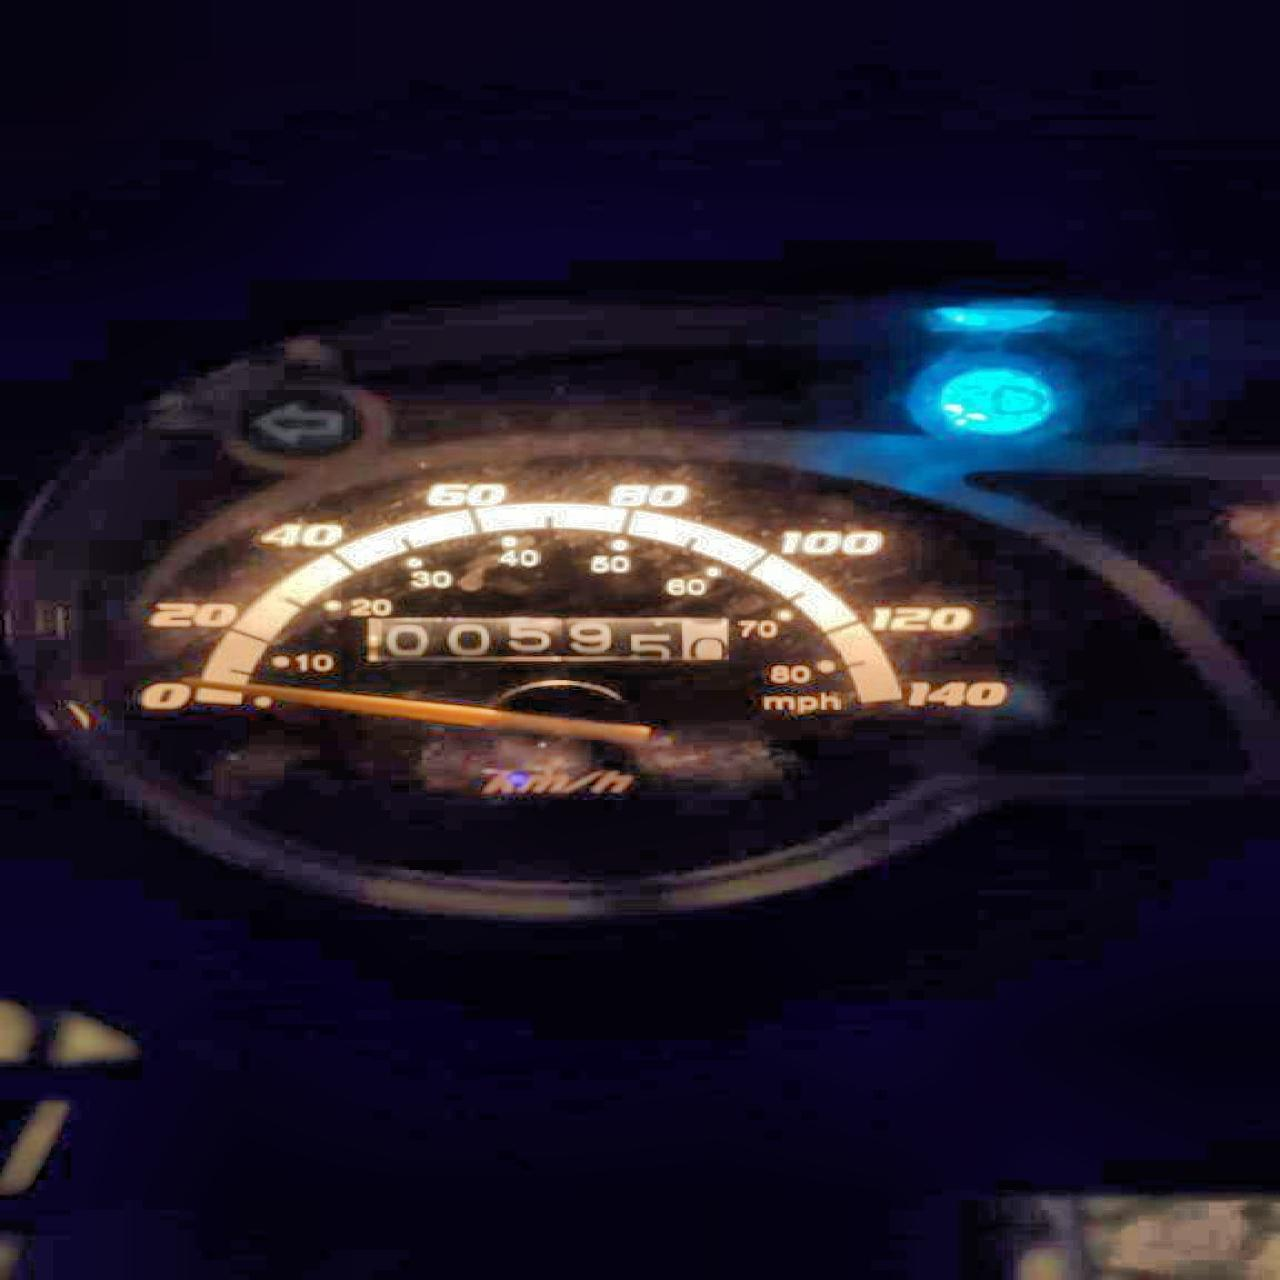0: (442, 622, 489, 655), (382, 622, 427, 656), (687, 636, 724, 661)
5: (504, 621, 549, 651), (627, 633, 672, 662)
9: (567, 620, 611, 652)
odometer: (360, 614, 734, 663)
